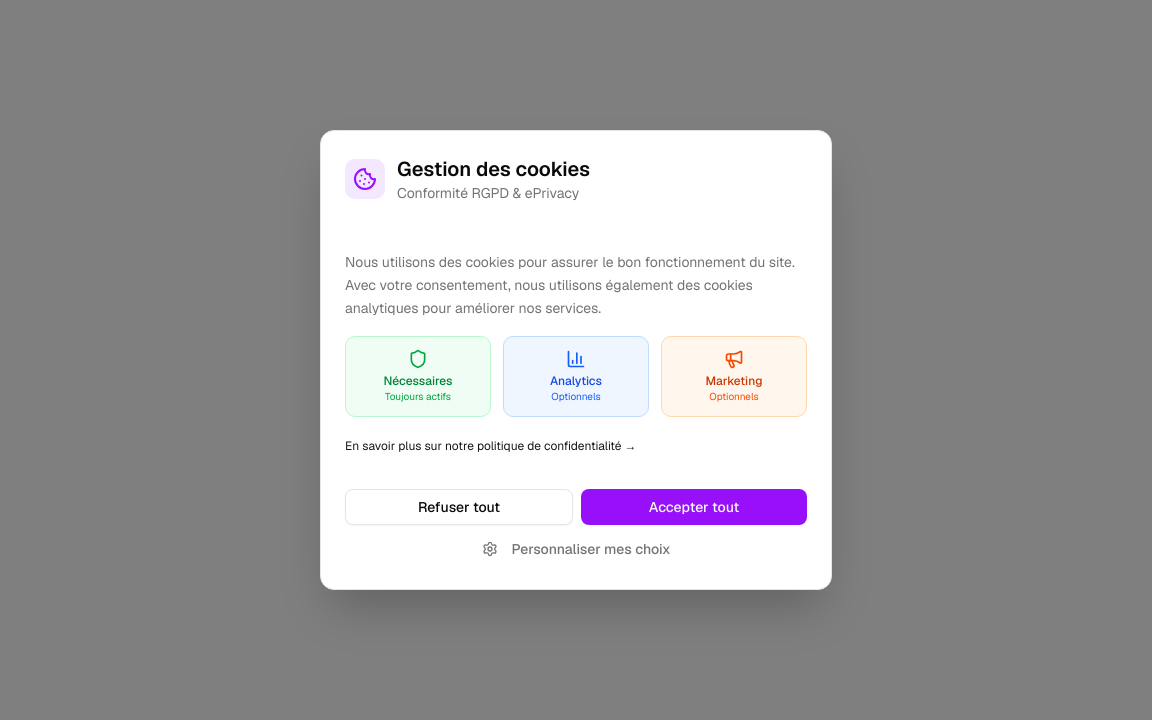
Scenario: CookieConsentBanner - User Interactions › [COOKIE-015] should open settings panel on "Personnaliser" click
Expected: the text "Gestion des cookies" is shown, [397,155,590,183]
Click the button "Personnaliser mes choix" at (576, 549), box [345,533,807,565]
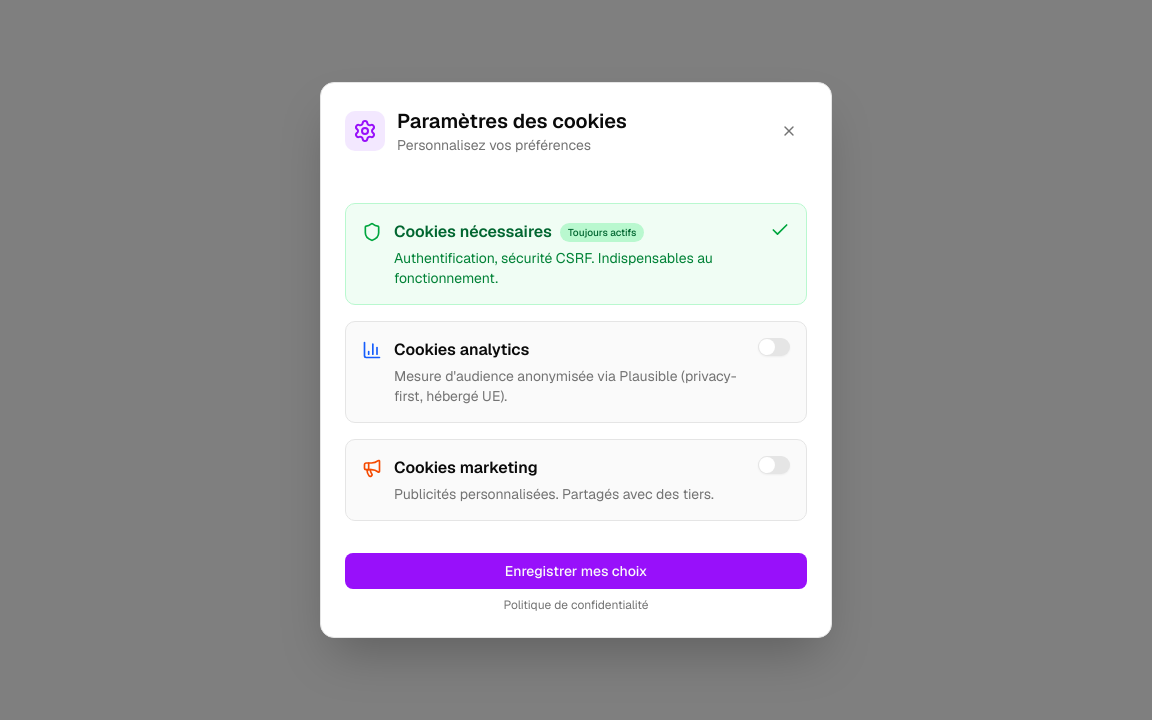
Expected: the text "Paramètres des cookies" is shown, [397,107,627,135]
